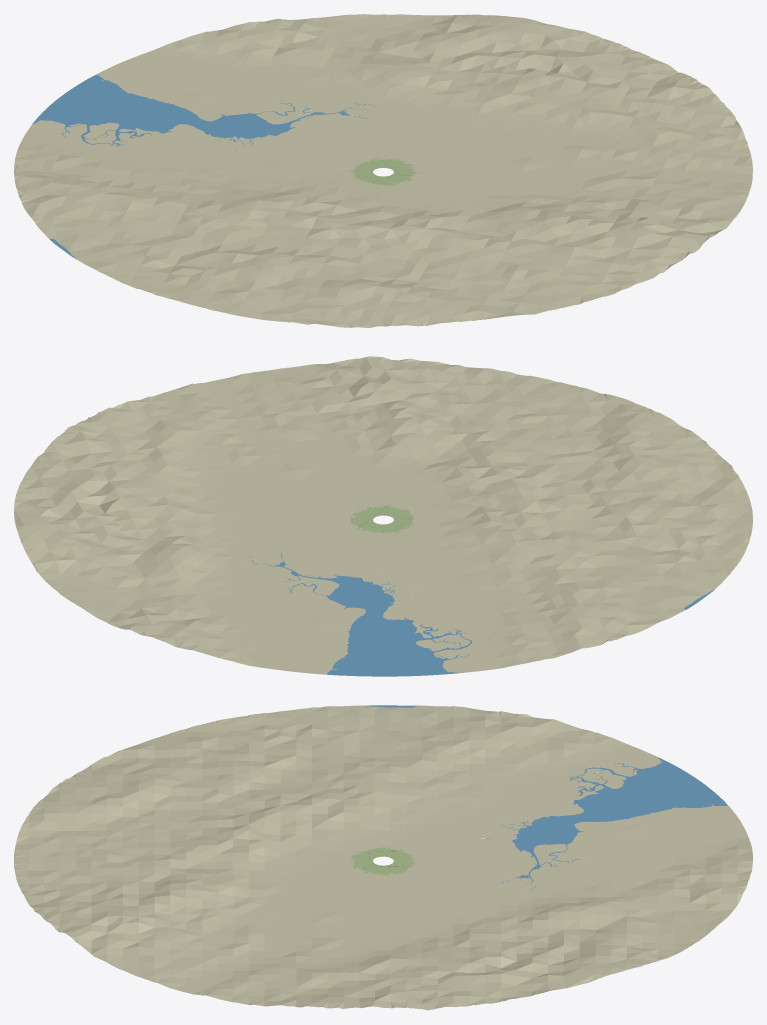
Rendered from backdrop.glb.
3 views of the same model, one above another, from view 1: azimuth 30°, elevation 25°; view 2: azimuth 150°, elevation 25°; view 3: azimuth 270°, elevation 25° (orthographic).
Visible parts, largest first — view 1: backdrop_horizon_land, backdrop_horizon_water, backdrop_terrain_grass; view 2: backdrop_horizon_land, backdrop_horizon_water, backdrop_terrain_grass; view 3: backdrop_horizon_land, backdrop_horizon_water, backdrop_terrain_grass.
Part boxes in pixels (<box>): backdrop_horizon_land: <box>14,14,752,327</box>; backdrop_horizon_water: <box>32,75,375,259</box>; backdrop_terrain_grass: <box>350,158,416,185</box>; backdrop_horizon_land: <box>14,356,752,674</box>; backdrop_horizon_water: <box>246,552,715,676</box>; backdrop_terrain_grass: <box>350,505,414,533</box>; backdrop_horizon_land: <box>14,705,752,1010</box>; backdrop_horizon_water: <box>359,705,727,894</box>; backdrop_terrain_grass: <box>350,847,414,875</box>.
Size of the model in its own units: 70396 by 1222 by 70393.
